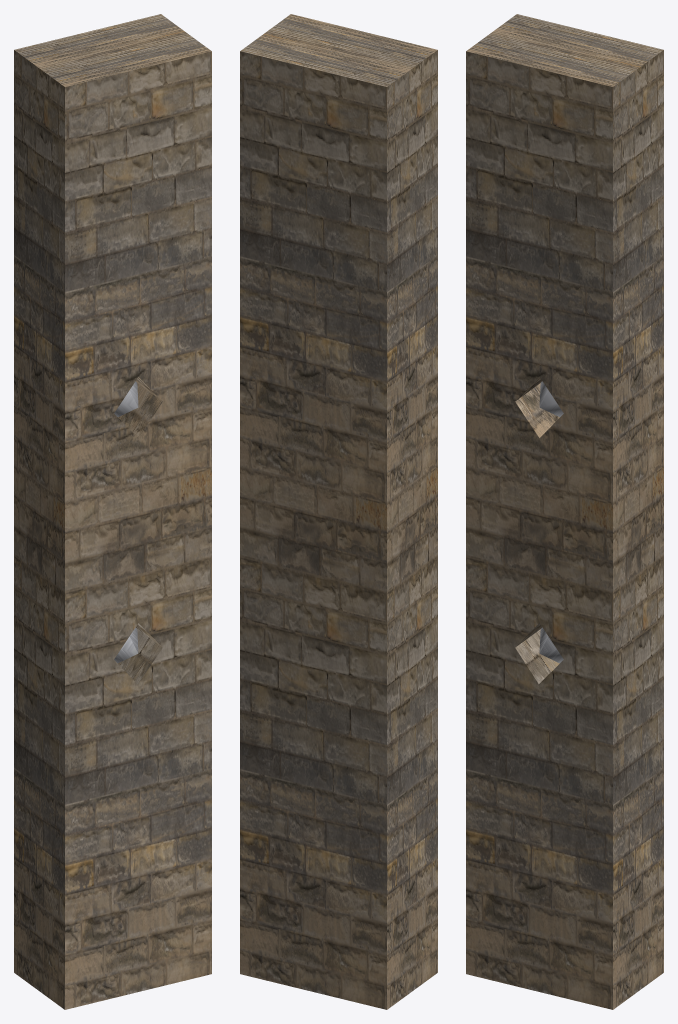
The model's file is Half_Door.FBX.
The picture shows the model from 3 angles, left to right: view 1: azimuth 30°, elevation 25°; view 2: azimuth 150°, elevation 25°; view 3: azimuth 330°, elevation 25°; orthographic projection.
Parts seen in each view (by area): view 1: Box001; view 2: Box001; view 3: Box001.
Part boxes in pixels (x1,y1,x2,y2): Box001: (14,14,211,1009); Box001: (240,14,437,1009); Box001: (466,14,663,1009).
Size of the model in its own units: 19.69 by 118 by 11.81.
2 materials, 2 textured.
